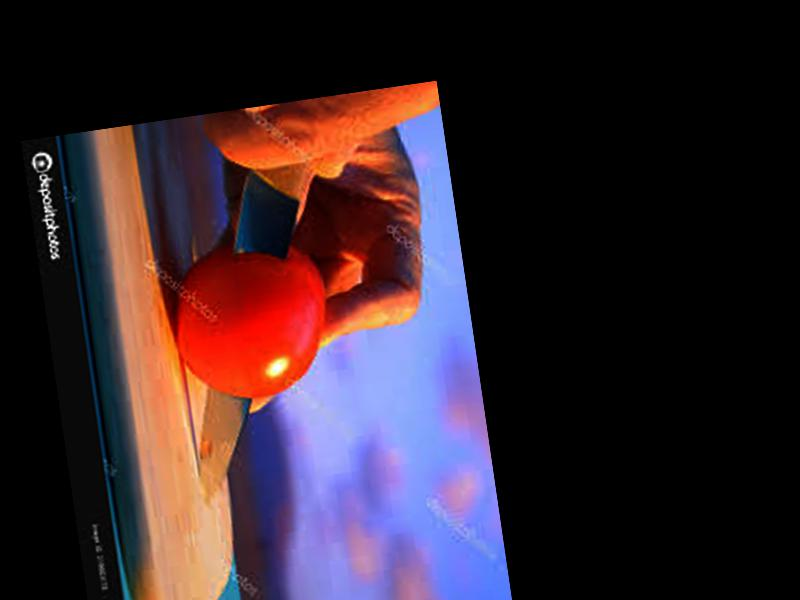Tomato: (161, 232, 336, 410)
